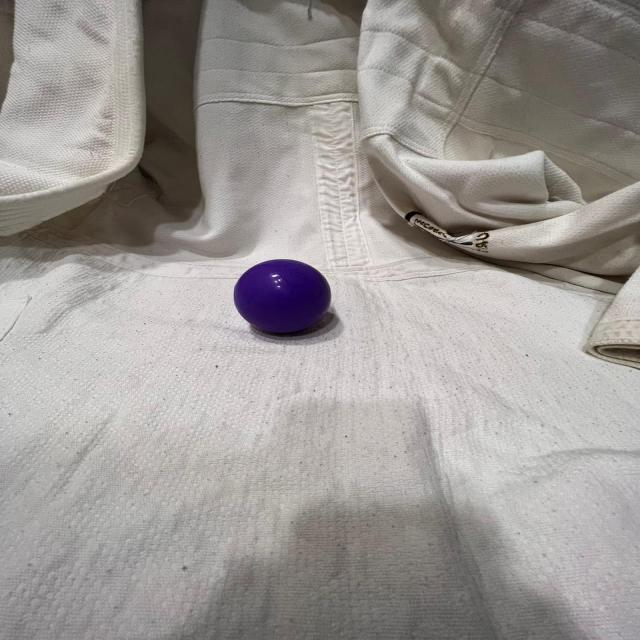ball: (230, 257, 334, 336)
